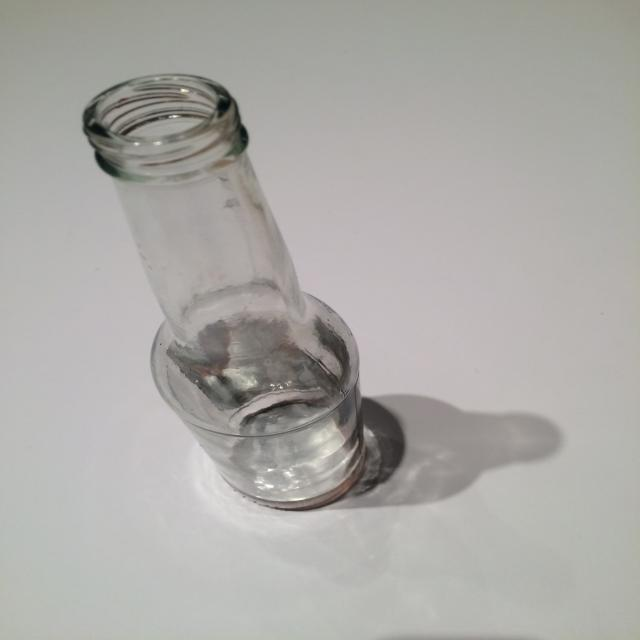glass: (79, 72, 369, 508)
